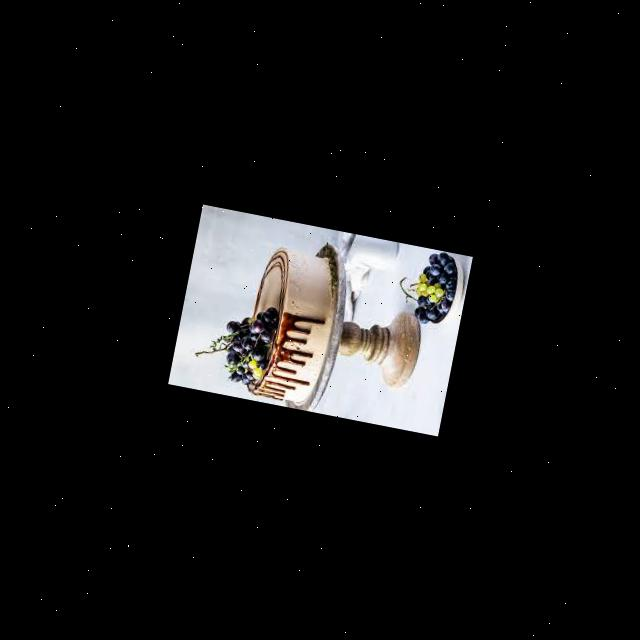grape: (392, 246, 461, 329)
